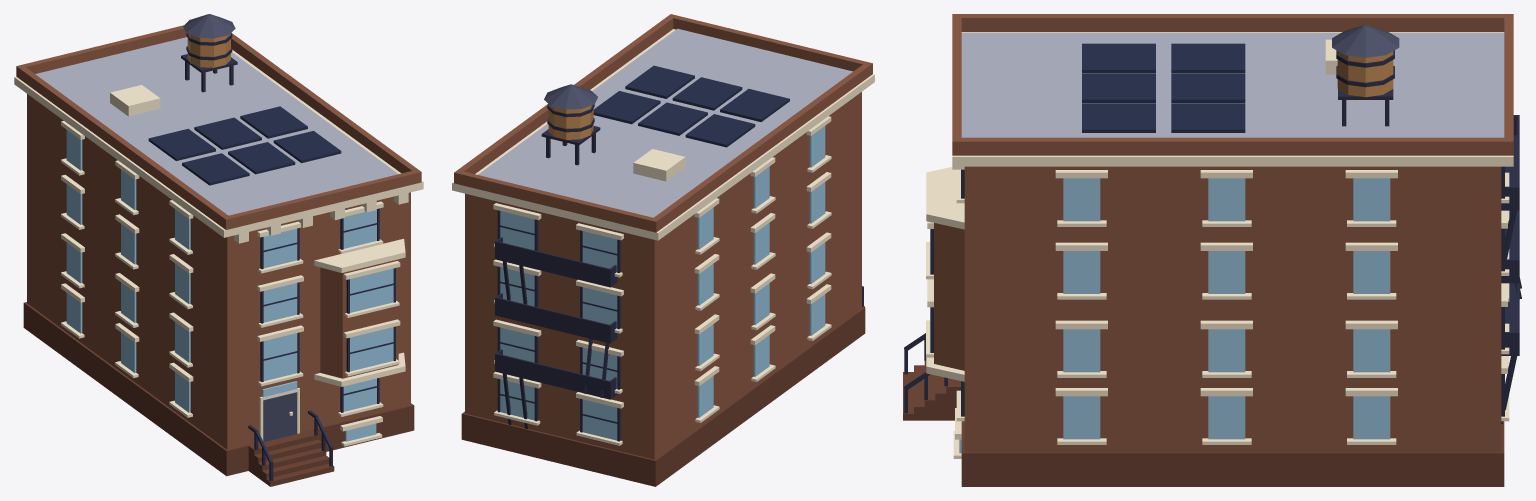
Rendered from house-1x2-4f-brownstone-a-solar.glb.
3 views of the same model, side by side, from view 1: azimuth 30°, elevation 25°; view 2: azimuth 150°, elevation 25°; view 3: azimuth 270°, elevation 25° (orthographic). The views are drawn at different scales.
Parts seen in each view (by area): view 1: house-1x2-4f-brownstone-a-solar; view 2: house-1x2-4f-brownstone-a-solar; view 3: house-1x2-4f-brownstone-a-solar.
Part boxes in pixels (x1,y1,x2,y2): house-1x2-4f-brownstone-a-solar: (14,14,423,486); house-1x2-4f-brownstone-a-solar: (452,14,874,486); house-1x2-4f-brownstone-a-solar: (903,14,1521,486).
Bounding box in the file's own units: 1 × 1.52 × 2.01.
1 material, 1 textured.
